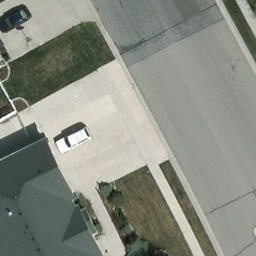car: (53, 127, 93, 154), (0, 5, 32, 35), (0, 0, 23, 10)
